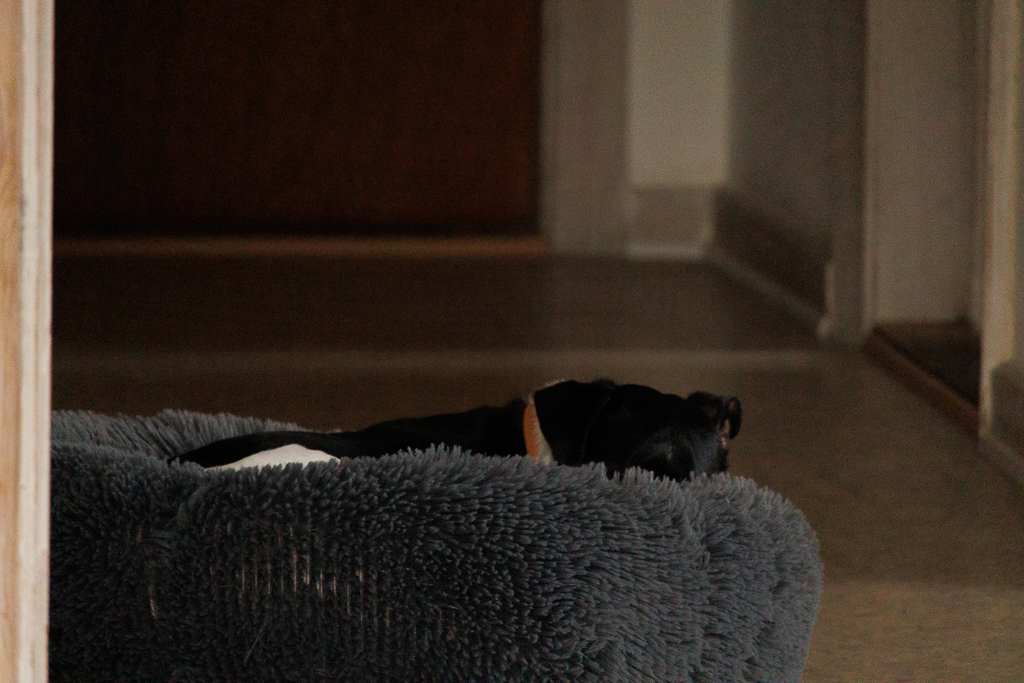Dog: (135, 358, 752, 496)
